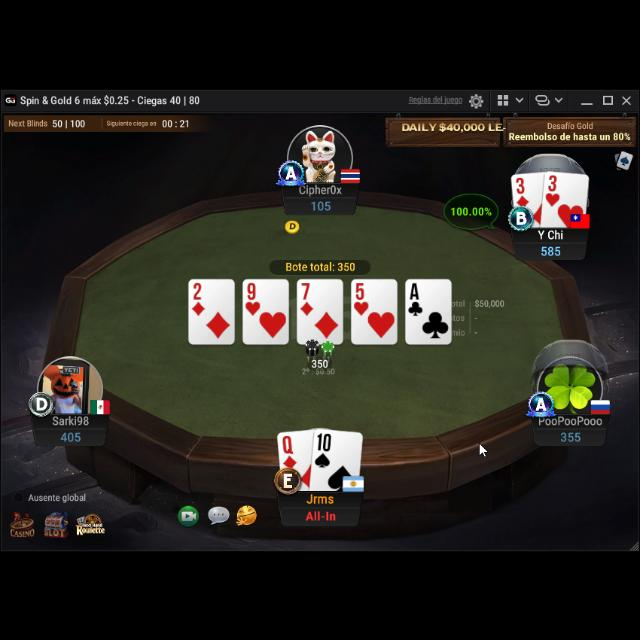2d: (191, 281, 205, 317)
3d: (515, 176, 531, 208)
3h: (545, 174, 561, 206)
5h: (352, 281, 370, 317)
7d: (300, 282, 314, 316)
9h: (245, 283, 261, 317)
Ac: (408, 281, 424, 317)
Jd: (280, 431, 300, 469)
Qd: (281, 430, 301, 468)
Ts: (313, 428, 333, 468)
all_in_symbol: (304, 504, 338, 522)
bet_text: (308, 355, 330, 369)
dealer: (284, 215, 300, 232)
pot_text: (284, 258, 356, 272)
stack_text: (58, 428, 82, 442), (538, 242, 562, 255), (310, 197, 332, 211), (560, 428, 582, 442)
